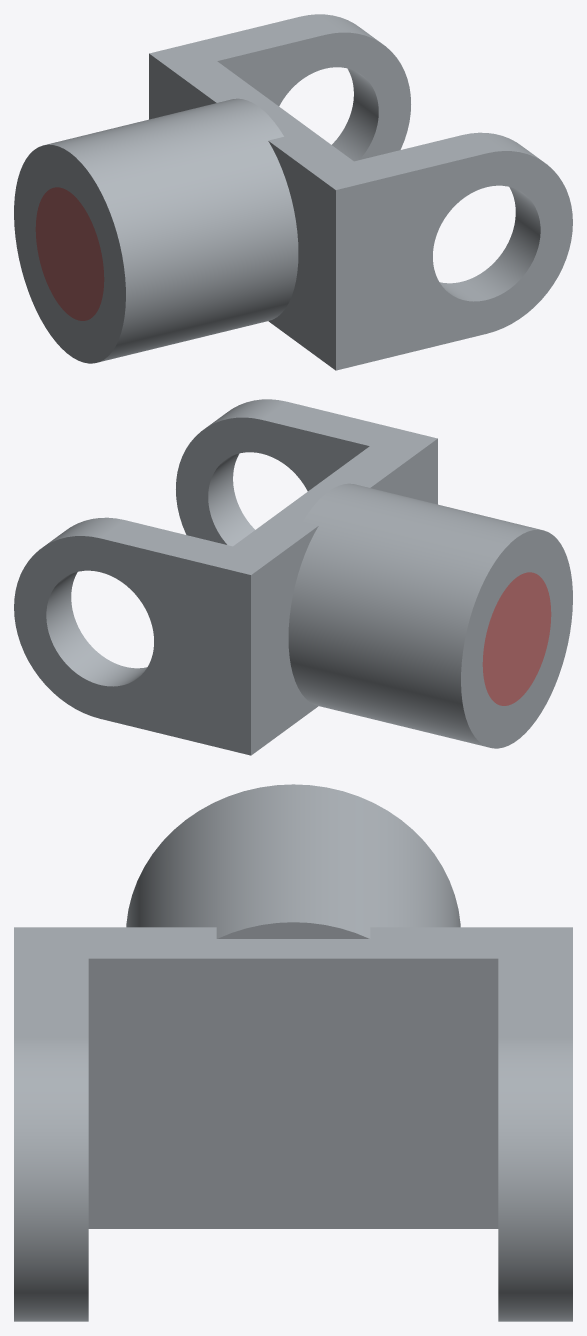
The model's file is step_04.glb.
The picture shows the model from 3 angles, top to bottom: view 1: azimuth 30°, elevation 25°; view 2: azimuth 150°, elevation 25°; view 3: azimuth 270°, elevation 25°; orthographic projection. The views are drawn at different scales.
Parts seen in each view (by area): view 1: part__input yoke, removed__input yoke; view 2: part__input yoke, removed__input yoke; view 3: part__input yoke.
Part boxes in pixels (box(x1,y1,x2,y2)): part__input yoke: box(14, 14, 572, 370); removed__input yoke: box(35, 187, 104, 320); part__input yoke: box(14, 399, 572, 755); removed__input yoke: box(482, 572, 551, 705); part__input yoke: box(14, 784, 572, 1321).
Bounding box in the file's own units: 76 × 36 × 60.
